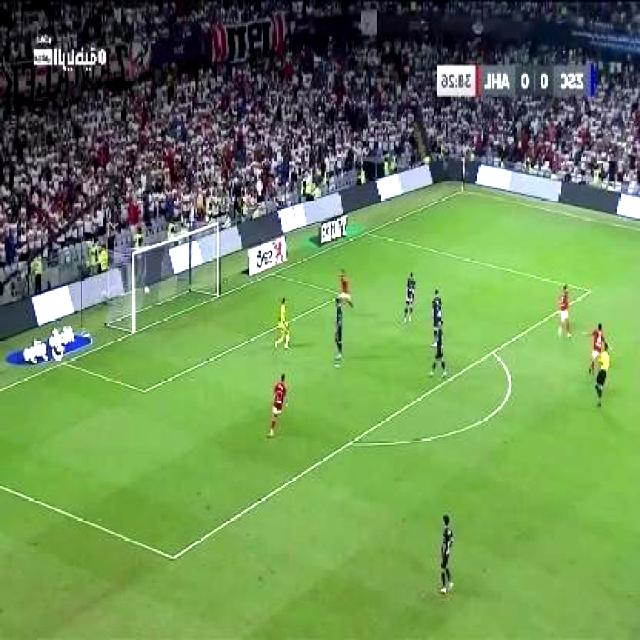bigarea_bottom_inner: (165, 543, 183, 571)
bigarea_top_inner: (582, 280, 602, 302)
bigarea_top_outter: (363, 226, 379, 240)
bottom_arc_area_intersection: (344, 428, 364, 452)
corner: (454, 188, 469, 197)
smallarea_bottom_inner: (138, 380, 152, 400)
smallarea_bottom_outter: (57, 354, 75, 371)
smallarea_top_inner: (338, 290, 344, 298)
smallarea_top_outter: (262, 268, 284, 280)
top_arc_area_intersection: (486, 342, 502, 362)
